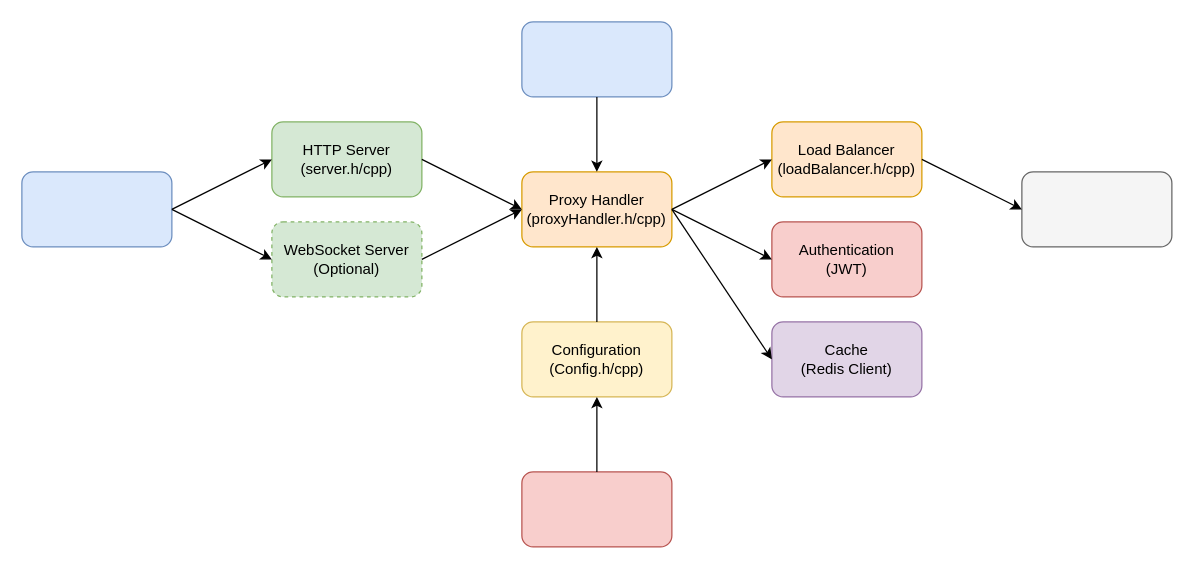
Image size: 1194x569. Some labels were removed from this diagram. Each missing label, with the box of its shape:
Backend Servers: (1021, 171, 1172, 247)
Error Handler (ErrorHandler.h/cpp): (521, 471, 672, 547)
External Clients: (21, 171, 172, 247)
Logger (Logger.h/cpp): (521, 21, 672, 97)
